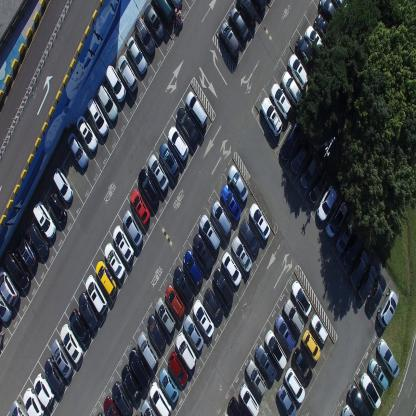car: (3, 248, 30, 292), (377, 336, 400, 380), (85, 274, 109, 316), (260, 95, 283, 138), (14, 231, 38, 272), (127, 347, 150, 389), (325, 198, 348, 240), (50, 338, 73, 380), (174, 106, 198, 146), (112, 224, 136, 264), (341, 229, 365, 269), (335, 211, 357, 254), (198, 213, 221, 254), (264, 328, 287, 369), (33, 200, 56, 241), (86, 97, 109, 138), (60, 322, 82, 364), (126, 34, 148, 76), (249, 202, 272, 242), (184, 89, 207, 129), (95, 258, 118, 298), (254, 342, 277, 382), (280, 70, 303, 110), (134, 15, 155, 58), (280, 121, 302, 162), (143, 1, 165, 42), (104, 243, 127, 282), (245, 358, 268, 397), (192, 232, 214, 272), (172, 264, 194, 304), (137, 168, 159, 208), (212, 266, 234, 306), (175, 330, 197, 370), (137, 330, 159, 370), (76, 114, 98, 154), (218, 20, 240, 60), (26, 222, 50, 258), (192, 299, 214, 338), (122, 210, 144, 249), (317, 0, 343, 33), (295, 35, 318, 72), (182, 248, 203, 288), (147, 154, 168, 194), (121, 363, 142, 403), (110, 380, 134, 415), (105, 63, 126, 103), (283, 297, 305, 335), (210, 200, 232, 238), (182, 313, 204, 351), (308, 168, 330, 206), (377, 289, 399, 327), (360, 371, 382, 409), (290, 279, 312, 317), (69, 308, 91, 346), (51, 166, 73, 204), (66, 132, 88, 170), (78, 289, 98, 330), (316, 184, 337, 223), (117, 54, 138, 93), (238, 219, 260, 256), (154, 297, 176, 334), (274, 313, 296, 350), (270, 82, 292, 119), (313, 13, 336, 48), (228, 163, 248, 203), (231, 236, 252, 274), (221, 250, 242, 288), (365, 272, 386, 310), (44, 357, 65, 395), (166, 126, 188, 162), (299, 154, 321, 190), (220, 185, 241, 222), (158, 142, 179, 179), (228, 5, 249, 42), (149, 380, 171, 415), (33, 372, 55, 407), (164, 282, 184, 320), (146, 312, 166, 350), (0, 266, 19, 306), (130, 190, 151, 226), (158, 367, 179, 403), (284, 367, 305, 403), (203, 286, 223, 323), (357, 264, 377, 301), (292, 346, 312, 383), (288, 53, 308, 90), (348, 383, 371, 415), (290, 140, 311, 175), (168, 350, 188, 386), (348, 250, 368, 286), (368, 357, 389, 391), (304, 24, 325, 58), (238, 382, 259, 415), (47, 190, 67, 224), (276, 383, 297, 415), (150, 0, 174, 27), (302, 328, 321, 362), (23, 386, 44, 416), (310, 311, 328, 345), (236, 0, 257, 28), (0, 292, 13, 322), (228, 395, 246, 415), (103, 396, 121, 415), (140, 398, 158, 416), (9, 400, 29, 416), (334, 0, 350, 18), (254, 0, 268, 17), (168, 0, 184, 14), (341, 403, 356, 415)
